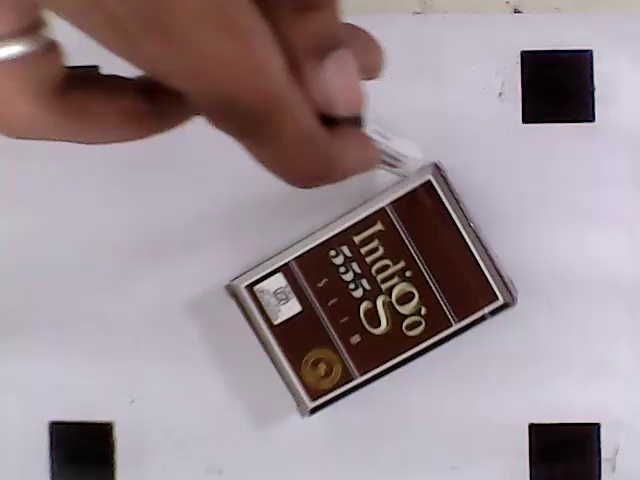BEX: (242, 176, 502, 404)
